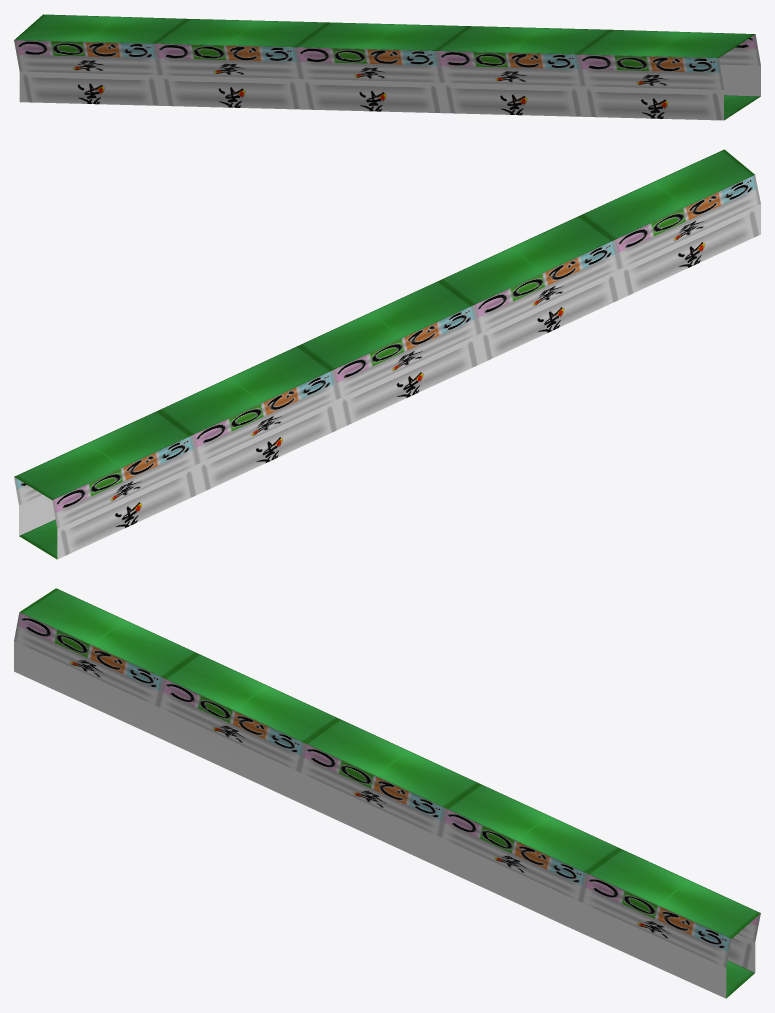
File: CourseSummer_Wall_R_15.fbx
3 views of the same model, one above another, from view 1: azimuth 90°, elevation 25°; view 2: azimuth 150°, elevation 25°; view 3: azimuth 270°, elevation 25° (orthographic).
Parts seen in each view (by area): view 1: polySurface112; view 2: polySurface112; view 3: polySurface112.
Part boxes in pixels (bbox=[...]): polySurface112: bbox=[14, 14, 760, 120]; polySurface112: bbox=[14, 149, 760, 559]; polySurface112: bbox=[14, 588, 760, 998].
Bounding box in the file's own units: 13.87 × 6.98 × 22.04.
Materials: 1 (1 with a texture image).
